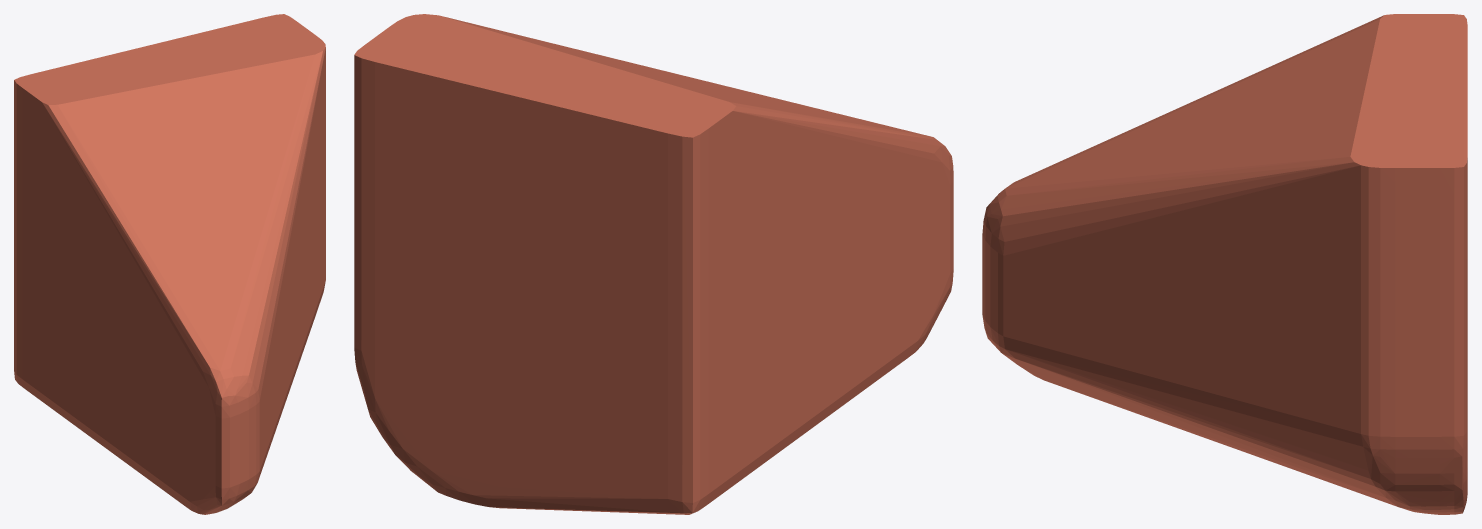
File: right_lf_metacarpal_part_9.obj
3 renders of one model, left to right at view 1: azimuth 30°, elevation 25°; view 2: azimuth 150°, elevation 25°; view 3: azimuth 270°, elevation 25°, orthographic. The views are drawn at different scales.
Bounding box in the file's own units: 9.23 × 10.83 × 12.28.
